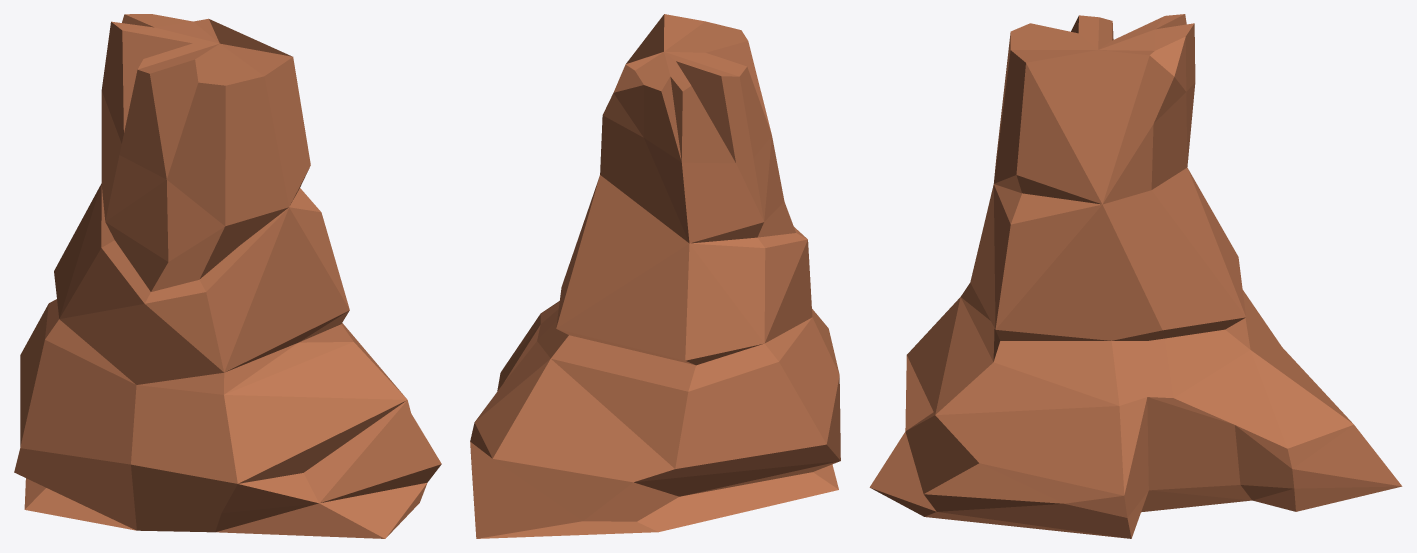
File: Big_Rock_001.fbx
The picture shows the model from 3 angles, left to right: view 1: azimuth 30°, elevation 25°; view 2: azimuth 150°, elevation 25°; view 3: azimuth 270°, elevation 25°; orthographic projection. The views are drawn at different scales.
Parts seen in each view (by area): view 1: Big_Rock_001; view 2: Big_Rock_001; view 3: Big_Rock_001.
Boxes of the visible parts, left/top/right/bottom form: Big_Rock_001: left=14, top=14, right=441, bottom=538; Big_Rock_001: left=470, top=14, right=840, bottom=538; Big_Rock_001: left=869, top=14, right=1402, bottom=538.
Bounding box in the file's own units: 13.59 × 15.3 × 17.63.
